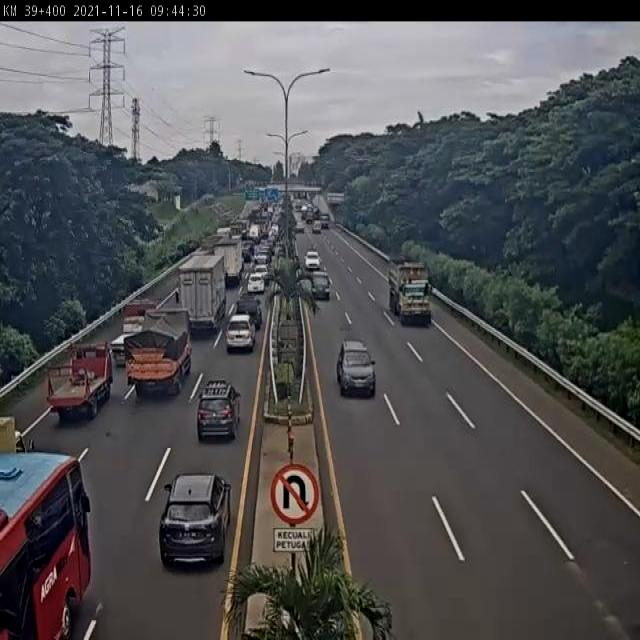Bus: (0, 451, 97, 640)
Car: (155, 470, 234, 570), (195, 381, 245, 442), (336, 336, 375, 402), (224, 308, 256, 355), (235, 296, 262, 324), (311, 273, 332, 301), (303, 250, 322, 271), (248, 274, 265, 293)
Truck: (127, 307, 193, 400), (45, 339, 116, 424), (174, 252, 226, 334), (109, 296, 161, 362), (387, 257, 434, 328), (212, 240, 241, 291)
